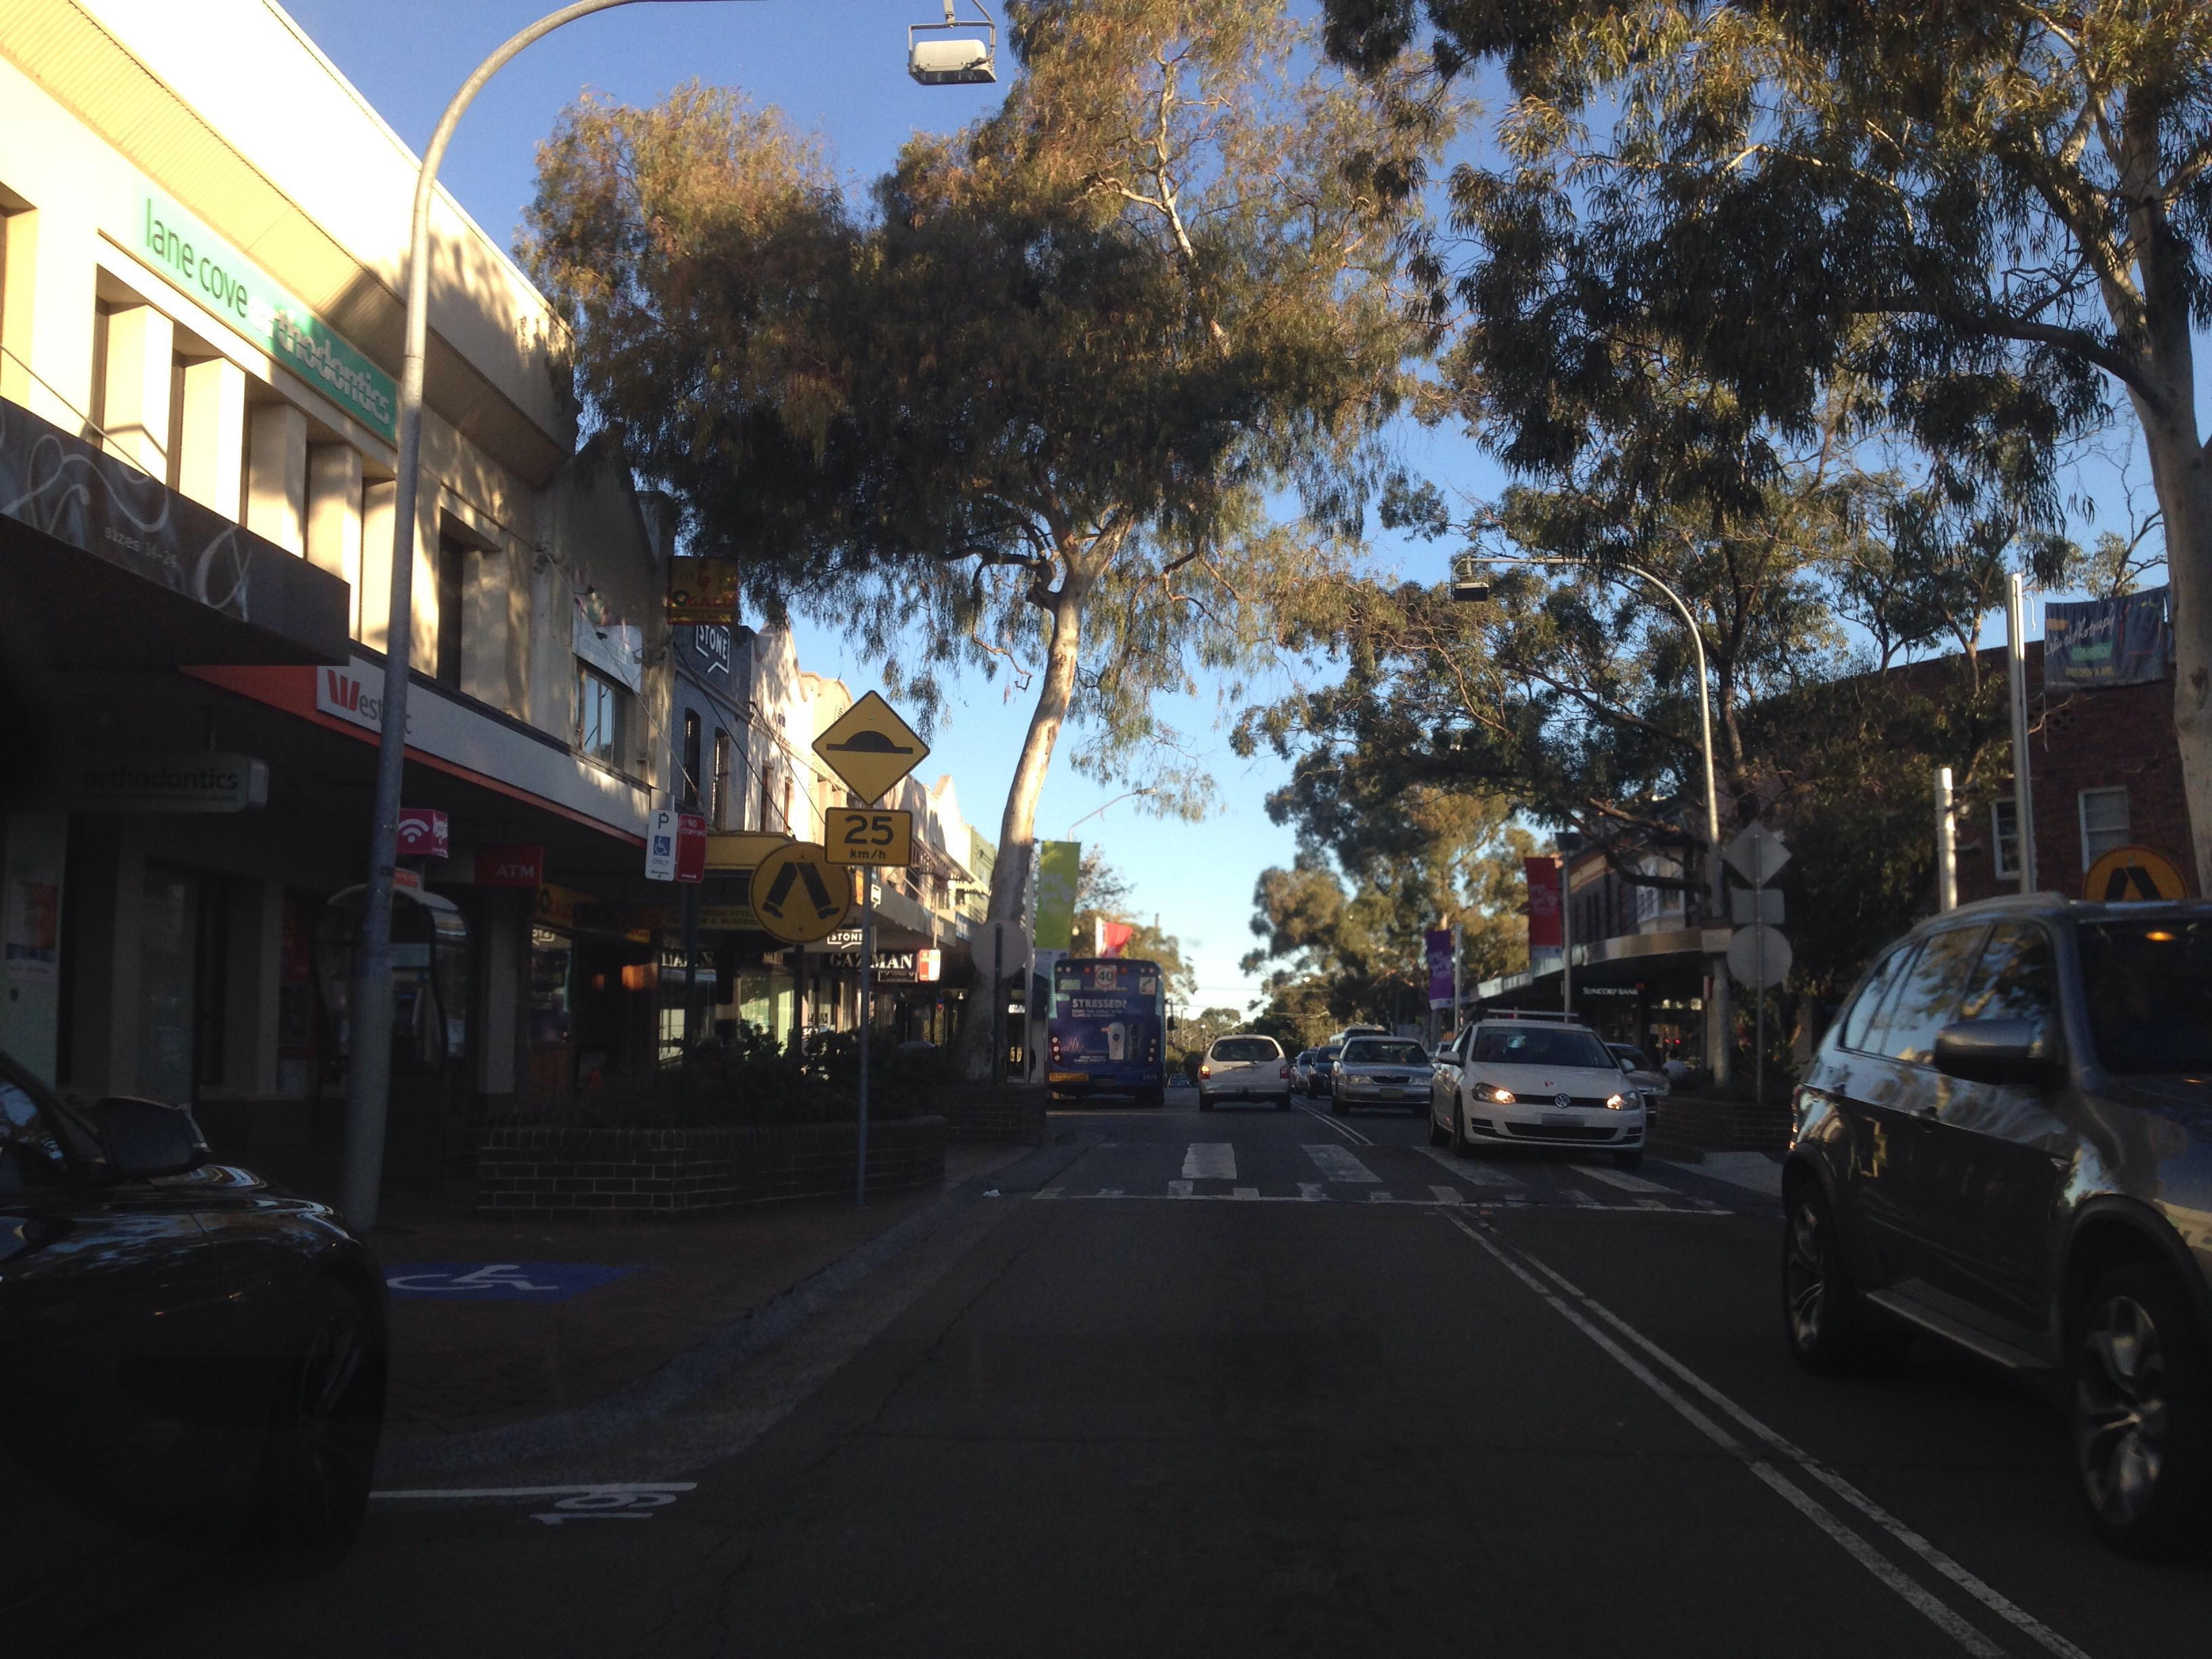vinyl banner: (2024, 568, 2175, 711)
